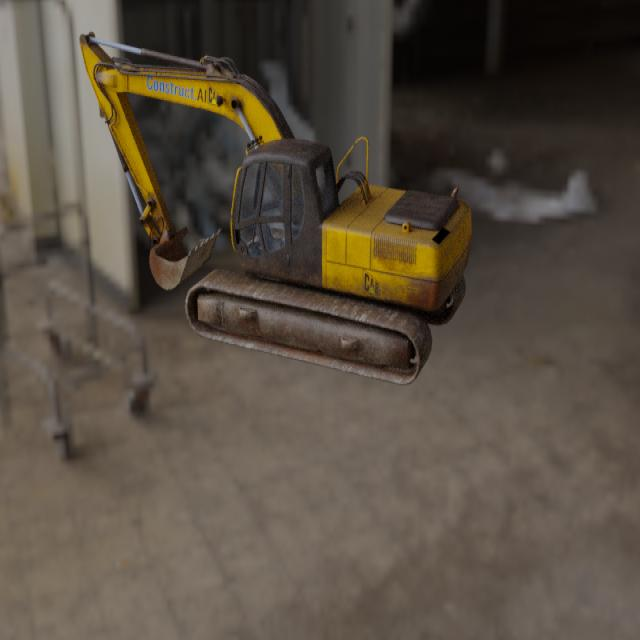excavator: (78, 31, 473, 385)
